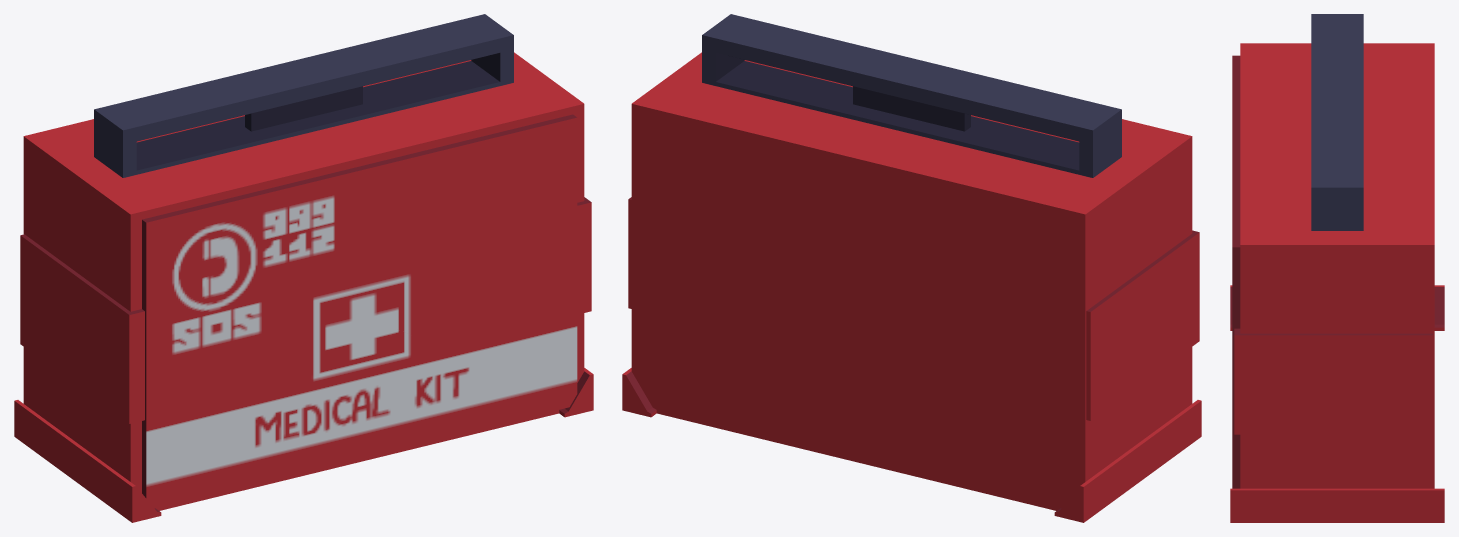
File: f_medkit.fbx
3 views of the same model, side by side, from view 1: azimuth 30°, elevation 25°; view 2: azimuth 150°, elevation 25°; view 3: azimuth 270°, elevation 25° (orthographic). The views are drawn at different scales.
Parts seen in each view (by area): view 1: f_medkit; view 2: f_medkit; view 3: f_medkit.
Boxes of the visible parts, left/top/right/bottom form: f_medkit: left=14, top=14, right=593, bottom=522; f_medkit: left=622, top=14, right=1201, bottom=522; f_medkit: left=1230, top=14, right=1444, bottom=522.
Bounding box in the file's own units: 0.9652 × 0.4264 × 0.7009.
